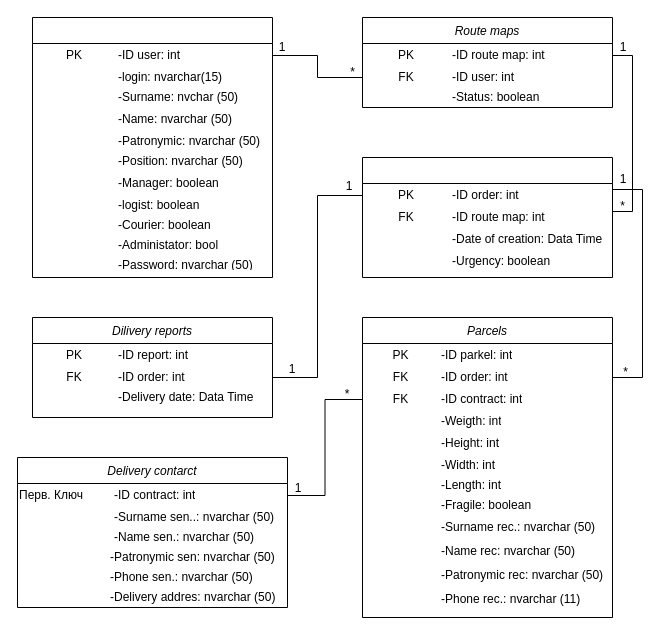
Some shapes in this 661 by 635 pixel diagram are drawn without their labels. Each missing label, with the box of its shape:
Delivery orders: (362, 156, 612, 278)
Users: (32, 16, 272, 278)
